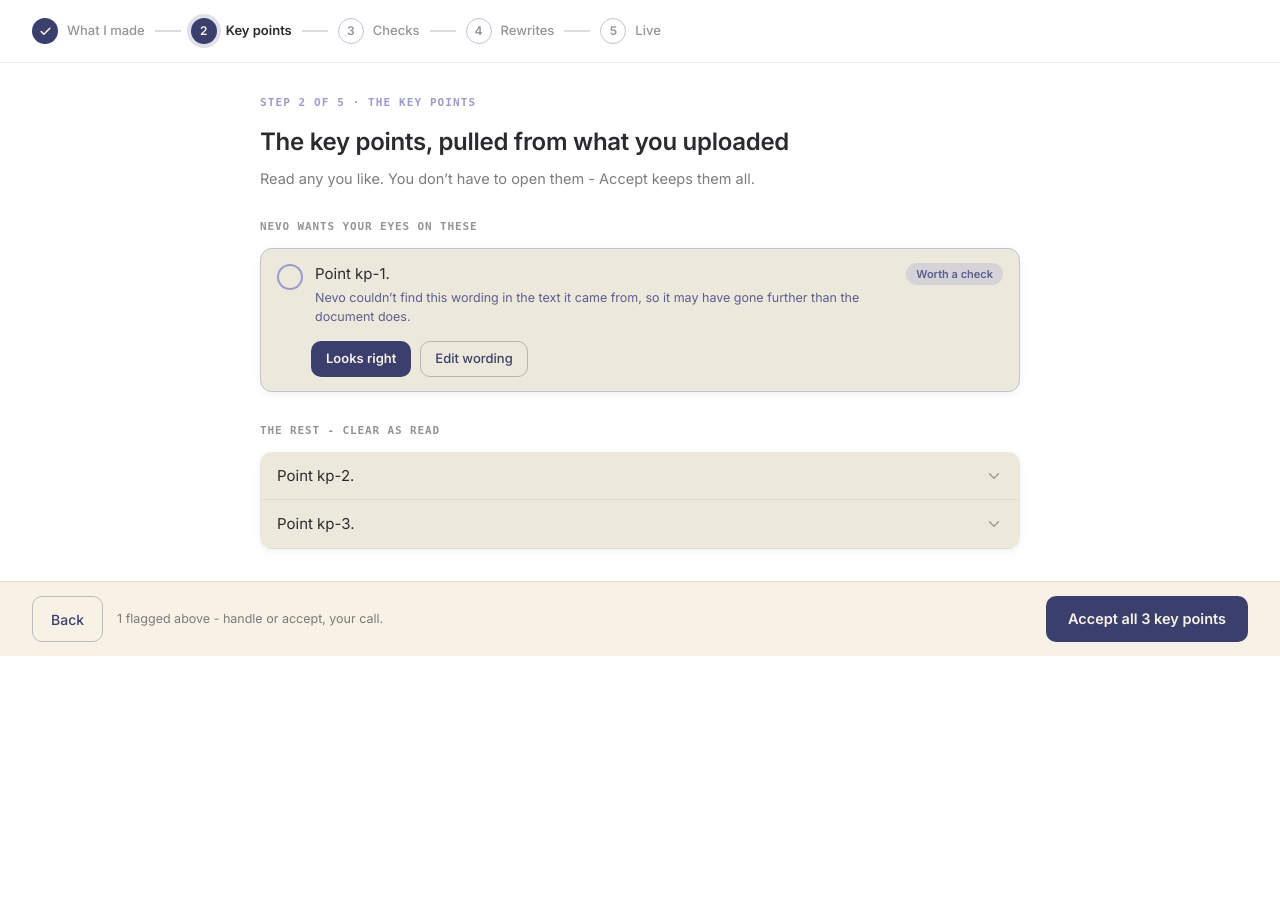
Test: the key points › shows the server's reason when an approval is refused
This screenshot has width=1280, height=900.
Check: the navigation bar named "Lesson review steps" is shown, box x1=0 y1=0 x2=1279 y2=63
Click the button "Accept all 3 key points" at (1147, 619), box x1=1046 y1=596 x2=1248 y2=642
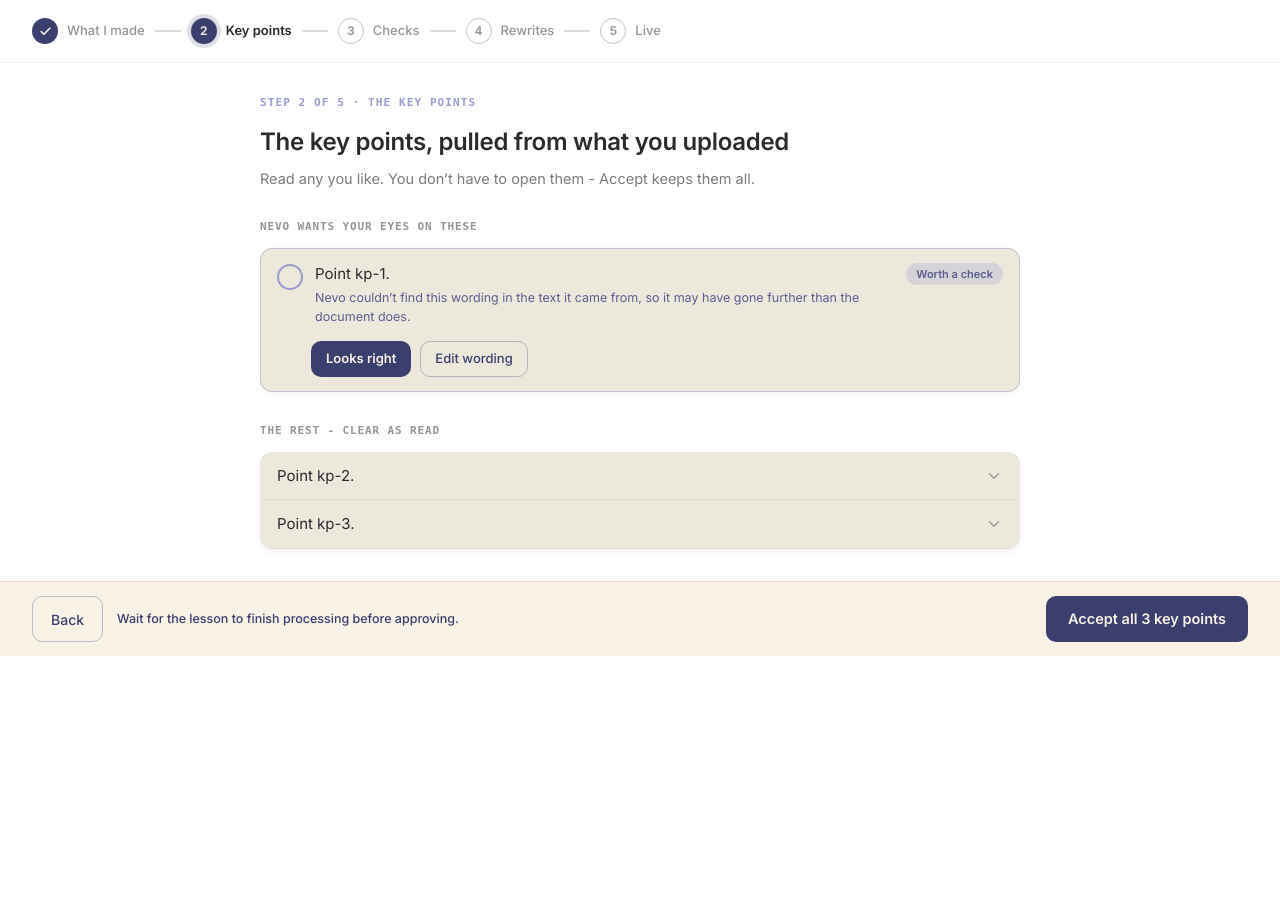
Check: the message reads "Wait for the lesson to finish processing before approving.", box x1=117 y1=611 x2=459 y2=626
